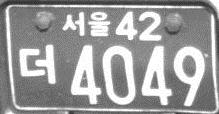0: (102, 44, 135, 105)
2: (138, 10, 162, 42)
4: (69, 44, 101, 104), (141, 46, 171, 105), (115, 10, 137, 40)
9: (172, 45, 205, 107)
더: (17, 44, 56, 85)
서울_O: (62, 11, 111, 38)
